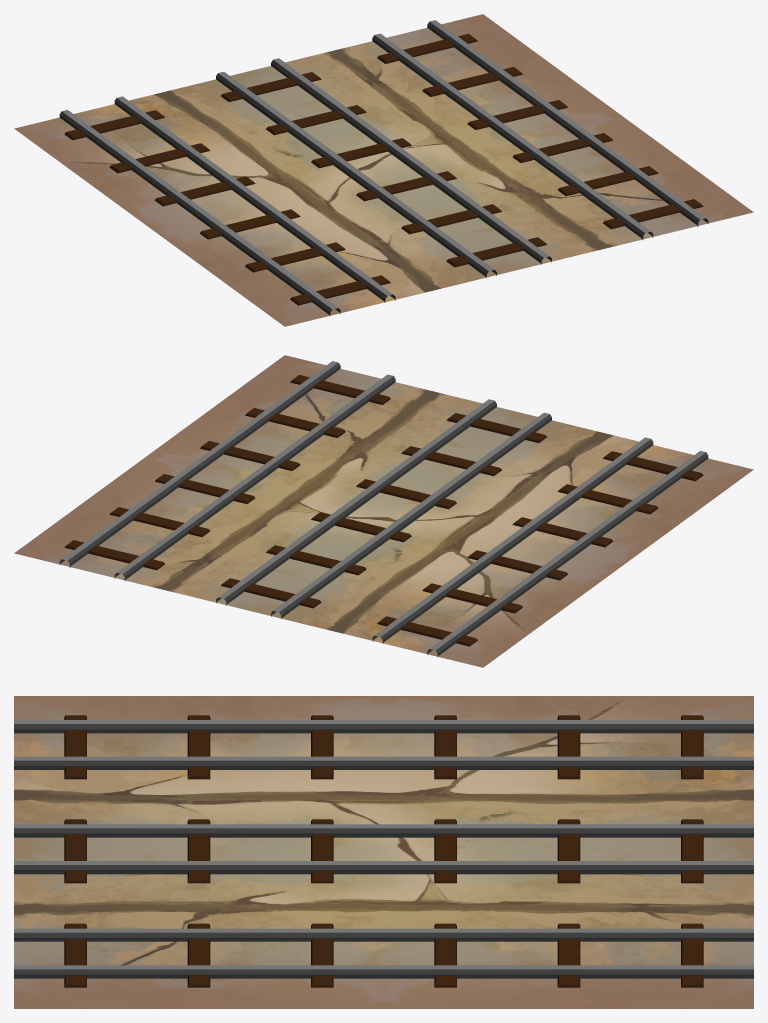
File: floor.FBX
The picture shows the model from 3 angles, top to bottom: view 1: azimuth 30°, elevation 25°; view 2: azimuth 150°, elevation 25°; view 3: azimuth 270°, elevation 25°; orthographic projection. The views are drawn at different scales.
Visible parts, largest first — view 1: Square 01, rails.001, rails; view 2: Square 01, rails.001, rails; view 3: Square 01, rails.001, rails.
Boxes of the visible parts, box(x1,y1,x2,y2) form: Square 01: box(14, 14, 753, 326); rails.001: box(59, 20, 708, 316); rails: box(64, 34, 703, 305); Square 01: box(14, 355, 753, 667); rails.001: box(59, 361, 708, 657); rails: box(64, 375, 703, 646); Square 01: box(14, 696, 753, 1008); rails.001: box(14, 720, 753, 978); rails: box(64, 715, 703, 987).
Bounding box in the file's own units: 10 × 0.1377 × 10.
